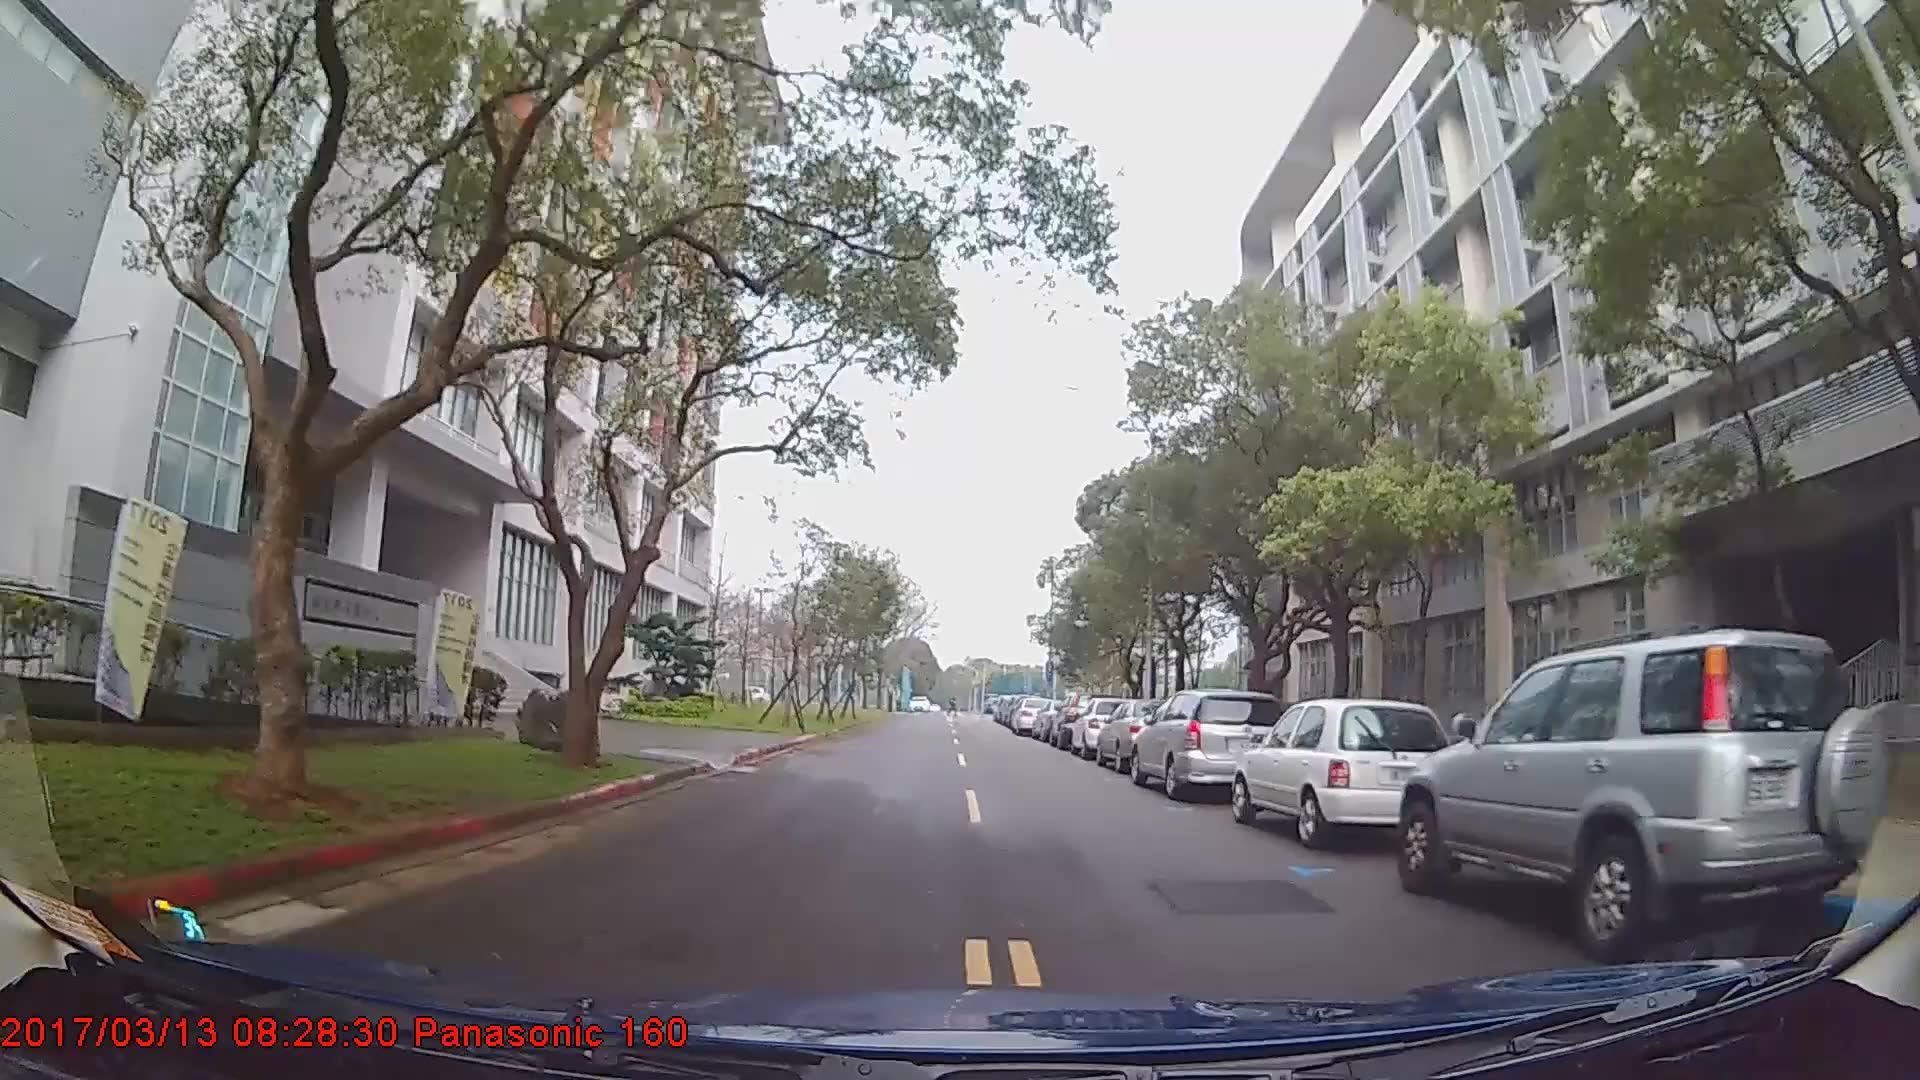vehicle: (1396, 624, 1892, 961), (1232, 695, 1455, 849), (1125, 688, 1288, 799), (1095, 694, 1187, 771), (1007, 694, 1054, 735)
